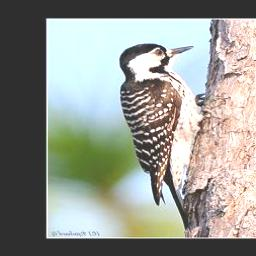Woodpecker: (114, 38, 212, 236)
